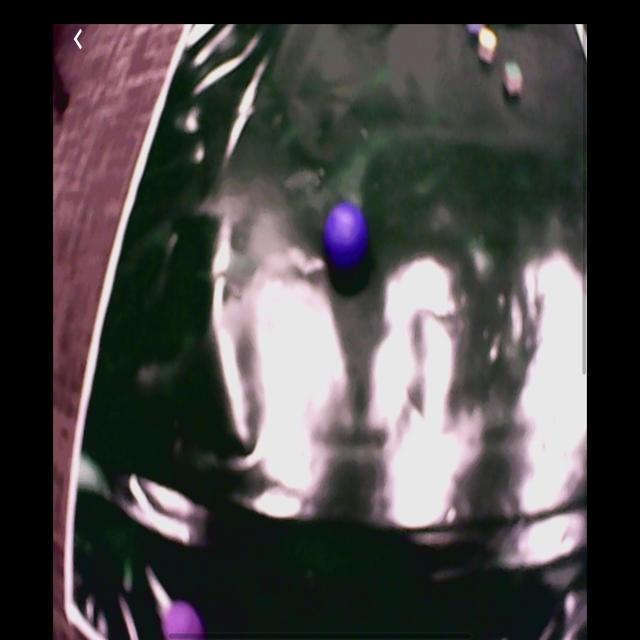ball: (326, 204, 369, 273), (162, 602, 205, 638)
